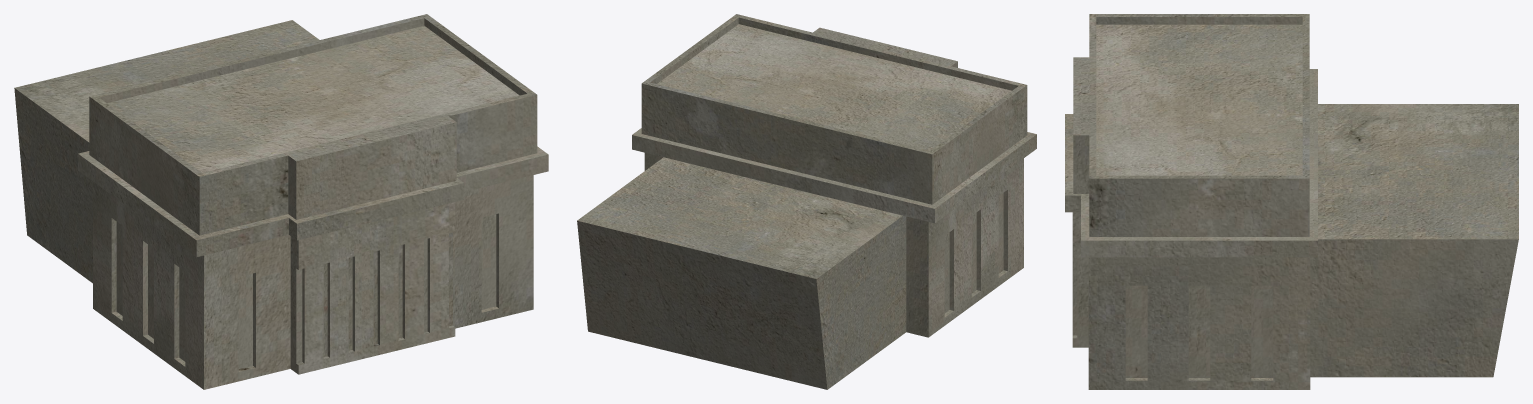
File: power_house_1.dae
3 renders of one model, left to right at view 1: azimuth 30°, elevation 25°; view 2: azimuth 150°, elevation 25°; view 3: azimuth 270°, elevation 25°, orthographic. The views are drawn at different scales.
Parts seen in each view (by area): view 1: powerhouse; view 2: powerhouse; view 3: powerhouse.
Boxes of the visible parts, x1,y1,x2,y2 form: powerhouse: [14, 14, 548, 389]; powerhouse: [577, 14, 1036, 389]; powerhouse: [1065, 14, 1518, 389].
Size of the model in its own units: 8.35 by 9.33 by 4.84.
